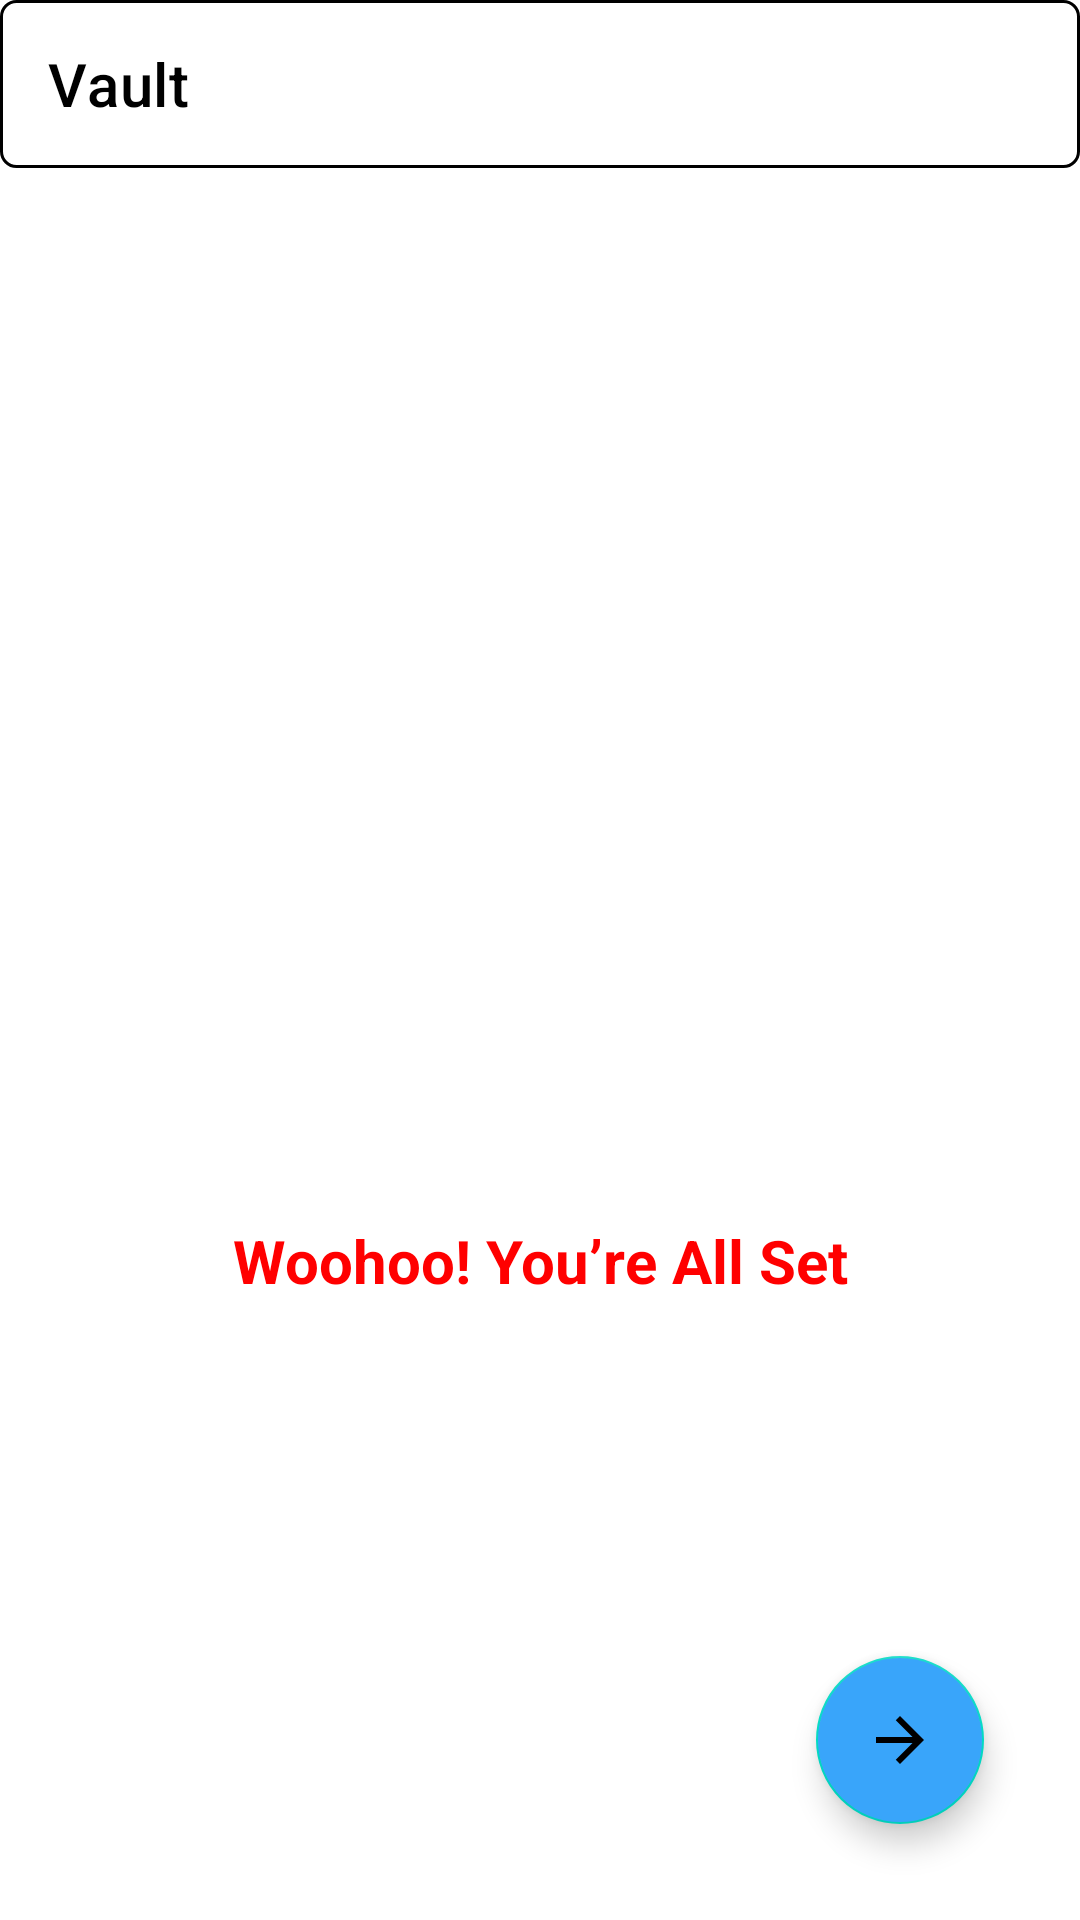

Where to tap for icons on this 1080×1920 app screen, as point (x, y):
arrow forward: point (900, 1740)
